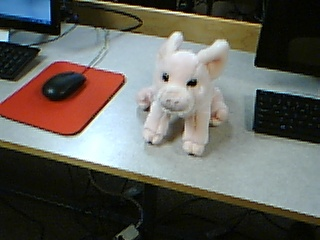piggy: (136, 30, 232, 158)
